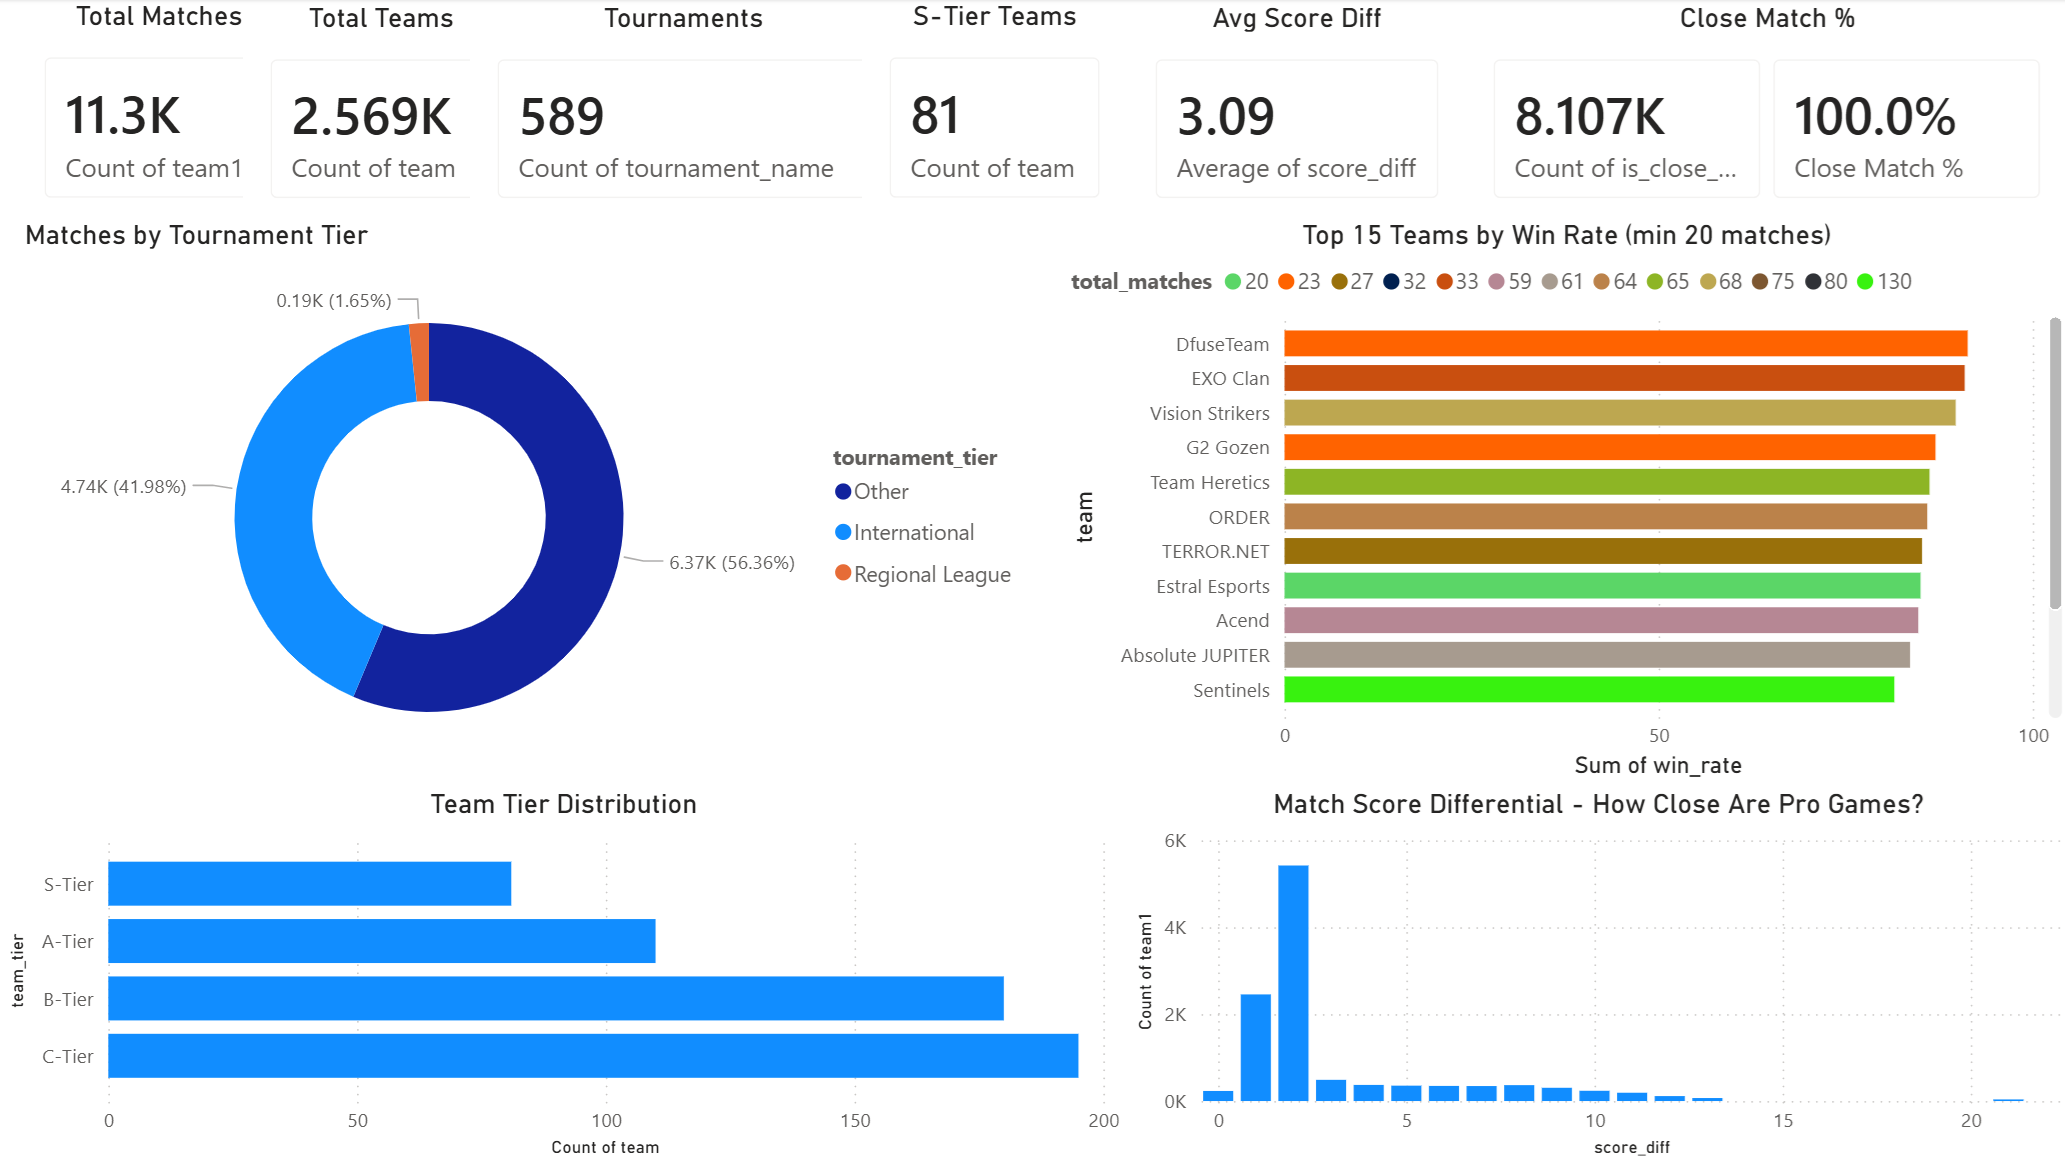

This screenshot's page, from the dashboard's own definition file:
{"tool":"powerbi","page":{"name":"Overview","canvas":[1280,720],"ordinal":0},"visuals":[{"type":"cardVisual","title":"Total Matches","fields":{"Data":["CountNonNull(results_enriched.team1)"]},"box":[0,0,175.8,140.2],"z":0},{"type":"cardVisual","title":"Total Teams","fields":{"Data":["Count(team_rankings.team)"]},"box":[150.5,1.1,171.2,139],"z":1000},{"type":"cardVisual","title":"Tournaments","fields":{"Data":["Count(results_enriched.tournament_name)"]},"box":[290.7,1.1,264.3,139],"z":2000},{"type":"cardVisual","title":"S-Tier Teams","fields":{"Data":["Count(team_rankings.team)"]},"box":[533.1,0,164.3,140.2],"z":3000},{"type":"cardVisual","title":"Avg Score Diff","fields":{"Data":["Avg(results_enriched.score_diff)"]},"box":[697.5,1.1,209.1,139],"z":4000},{"type":"cardVisual","title":"Close Match %","fields":{"Data":["CountNonNull(results_enriched.is_close_match)","results_enriched.Close Match %"]},"box":[906.6,1.1,373.4,139],"z":5000},{"type":"donutChart","title":"Matches by Tournament Tier","fields":{"Category":["results_enriched.tournament_tier"],"Y":["CountNonNull(results_enriched.team1)"]},"box":[10.3,135.6,629.7,351.6],"z":6000},{"type":"barChart","title":"Top 15 Teams by Win Rate (min 20 matches)","fields":{"Category":["team_rankings.team"],"Y":["Sum(team_rankings.win_rate)"],"Series":["team_rankings.total_matches"]},"box":[657.2,135.6,622.8,351.6],"z":7000},{"type":"barChart","title":"Team Tier Distribution","fields":{"Category":["team_rankings.team_tier"],"Y":["Count(team_rankings.team)"]},"box":[0,487.2,697.5,233.2],"z":8000},{"type":"columnChart","title":"Match Score Differential - How Close Are Pro Games?","fields":{"Category":["results_enriched.score_diff"],"Y":["CountNonNull(results_enriched.team1)"]},"box":[697.5,487.2,582.5,233.2],"z":9000}]}

Visuals, with their boxes in screenshot pixels (x1, y1, x2, y2), scaled from the page's 1280x720 canvas onto the 2065x1161 screenshot:
"Total Matches" cardVisual: crop(0, 0, 284, 226)
"Total Teams" cardVisual: crop(243, 2, 519, 226)
"Tournaments" cardVisual: crop(469, 2, 895, 226)
"S-Tier Teams" cardVisual: crop(860, 0, 1125, 226)
"Avg Score Diff" cardVisual: crop(1125, 2, 1463, 226)
"Close Match %" cardVisual: crop(1463, 2, 2064, 226)
"Matches by Tournament Tier" donutChart: crop(17, 219, 1032, 786)
"Top 15 Teams by Win Rate (min 20 matches)" barChart: crop(1060, 219, 2064, 786)
"Team Tier Distribution" barChart: crop(0, 786, 1125, 1160)
"Match Score Differential - How Close Are Pro Games?" columnChart: crop(1125, 786, 2064, 1160)
